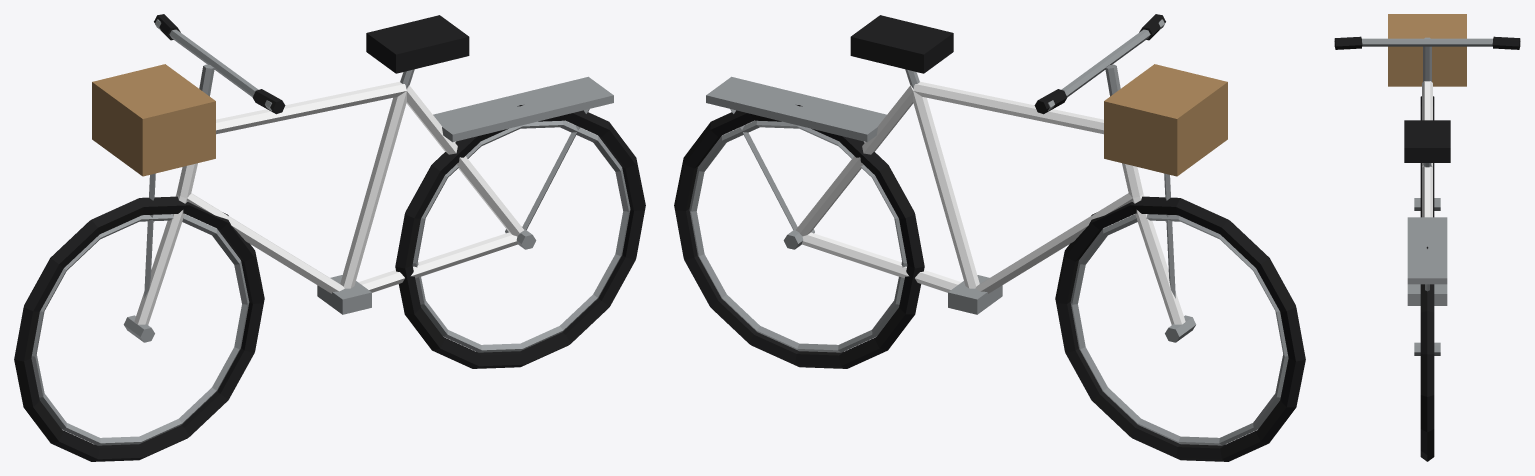
The model's file is bicycle.glb.
The picture shows the model from 3 angles, left to right: view 1: azimuth 30°, elevation 25°; view 2: azimuth 150°, elevation 25°; view 3: azimuth 270°, elevation 25°; orthographic projection. The views are drawn at different scales.
Parts seen in each view (by area): view 1: bicycle; view 2: bicycle; view 3: bicycle.
Boxes of the visible parts, x1,y1,x2,y2 form: bicycle: (14,14,645,461); bicycle: (674,14,1305,461); bicycle: (1334,14,1520,461).
Size of the model in its own units: 1.72 by 0.9976 by 0.5645.
